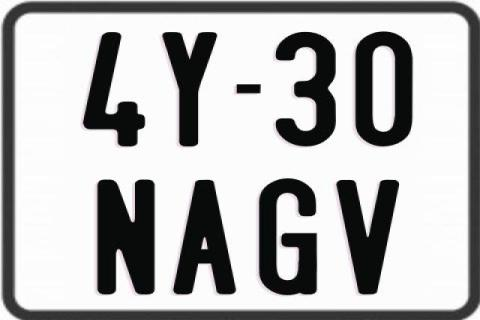0: (81, 30, 148, 148), (273, 32, 334, 149), (354, 30, 413, 148)
A: (173, 178, 240, 294)
G: (258, 176, 320, 295)
N: (95, 177, 157, 297)
V: (334, 180, 404, 298)
Y: (161, 31, 220, 148)
